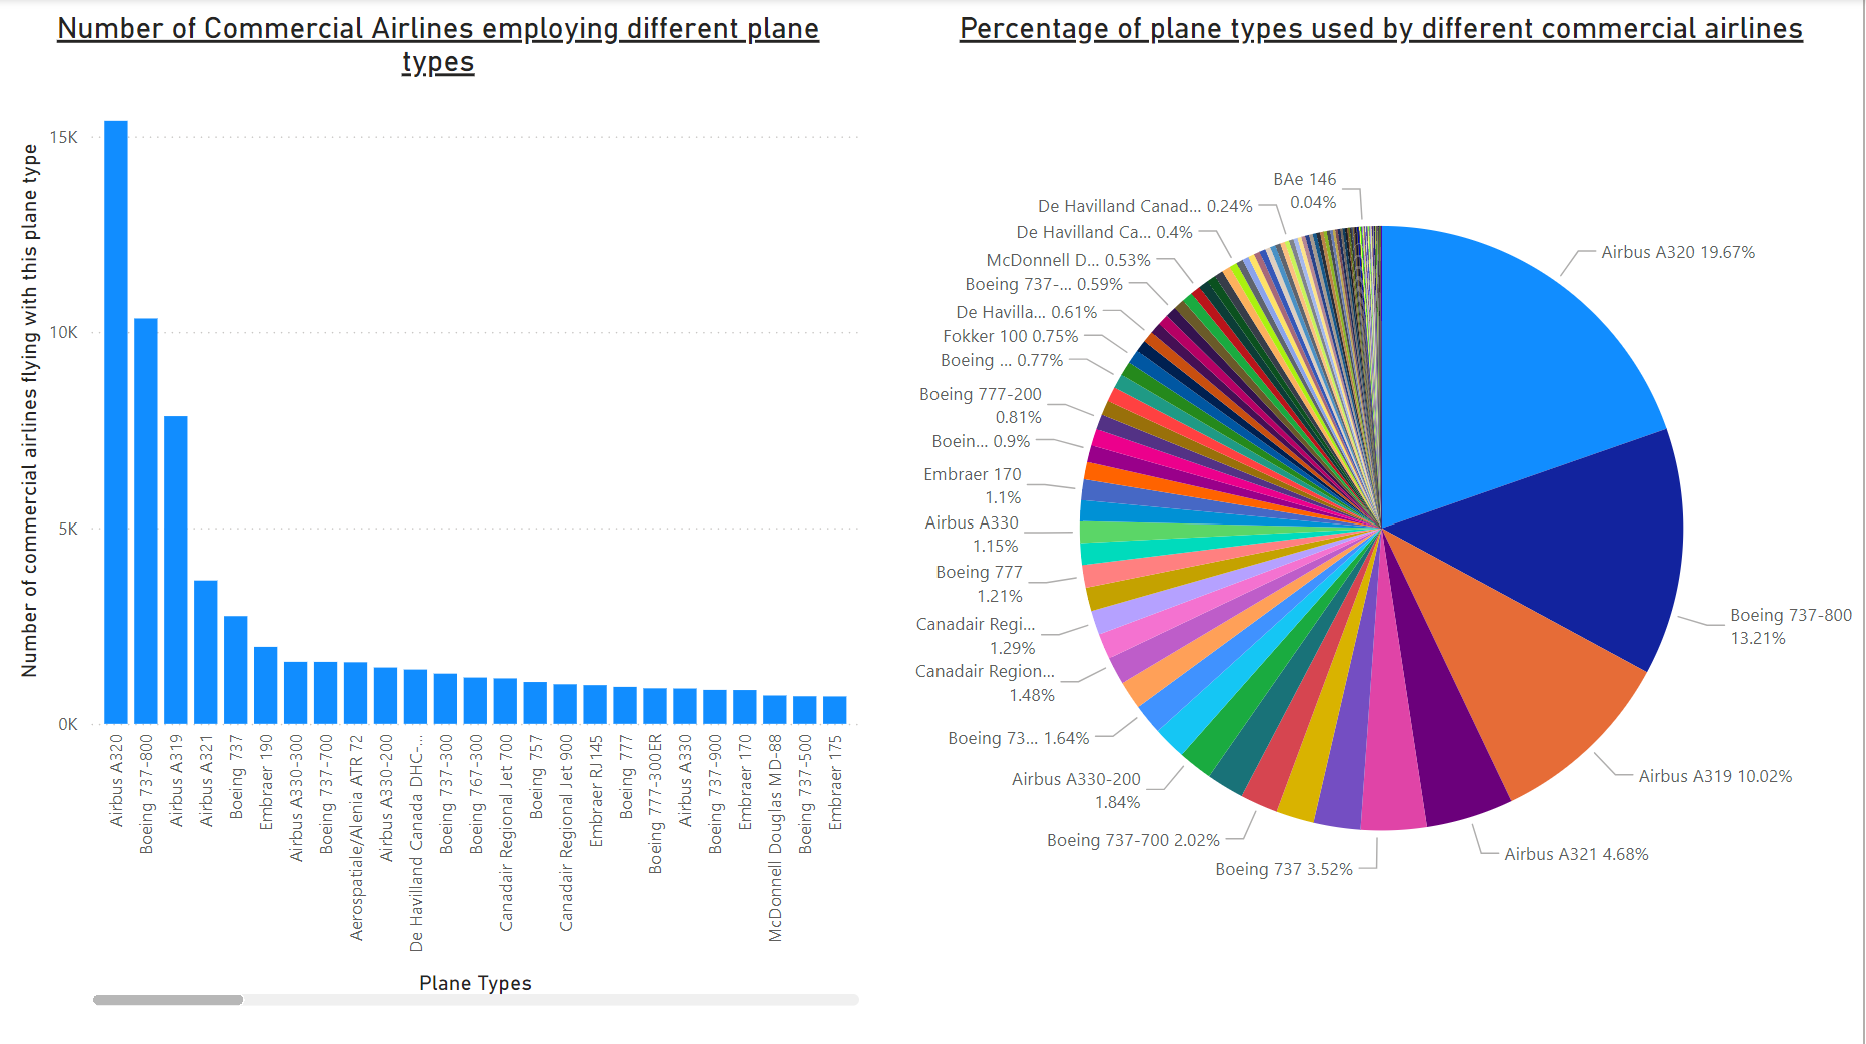

Layout of this report page (visuals, bound fields, positions):
{"tool":"powerbi","page":{"name":"No. of Airlines by Type","canvas":[1280,720],"ordinal":0},"visuals":[{"type":"clusteredColumnChart","title":"Number of Commercial Airlines employing different plane types","fields":{"Category":["routes_equip_final.Equipment_Name"],"Y":["CountNonNull(routes_equip_final.Airline_ID)"]},"box":[8,8,588,688],"z":0},{"type":"pieChart","title":"Percentage of plane types used by different commercial airlines","fields":{"Category":["routes_equip_final.Equipment_Name"],"Y":["CountNonNull(routes_equip_final.Airline_ID)"]},"box":[620,8,660,688],"z":1000}]}

Visuals, with their boxes in screenshot pixels (x1, y1, x2, y2), scaled from the page's 1280x720 canvas onto the 1866x1044 screenshot:
"Number of Commercial Airlines employing different plane types" clusteredColumnChart: Rect(12, 12, 869, 1009)
"Percentage of plane types used by different commercial airlines" pieChart: Rect(904, 12, 1865, 1009)
